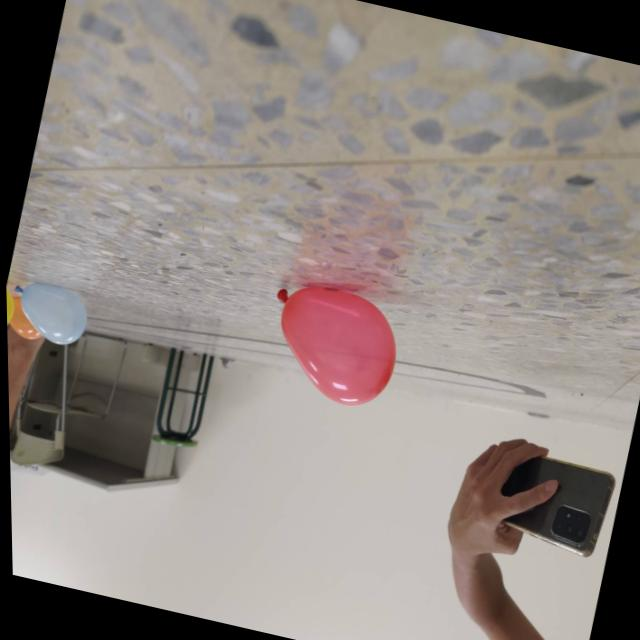other: (5, 278, 91, 351), (5, 297, 46, 342), (5, 282, 18, 338)
red: (254, 275, 408, 416)
